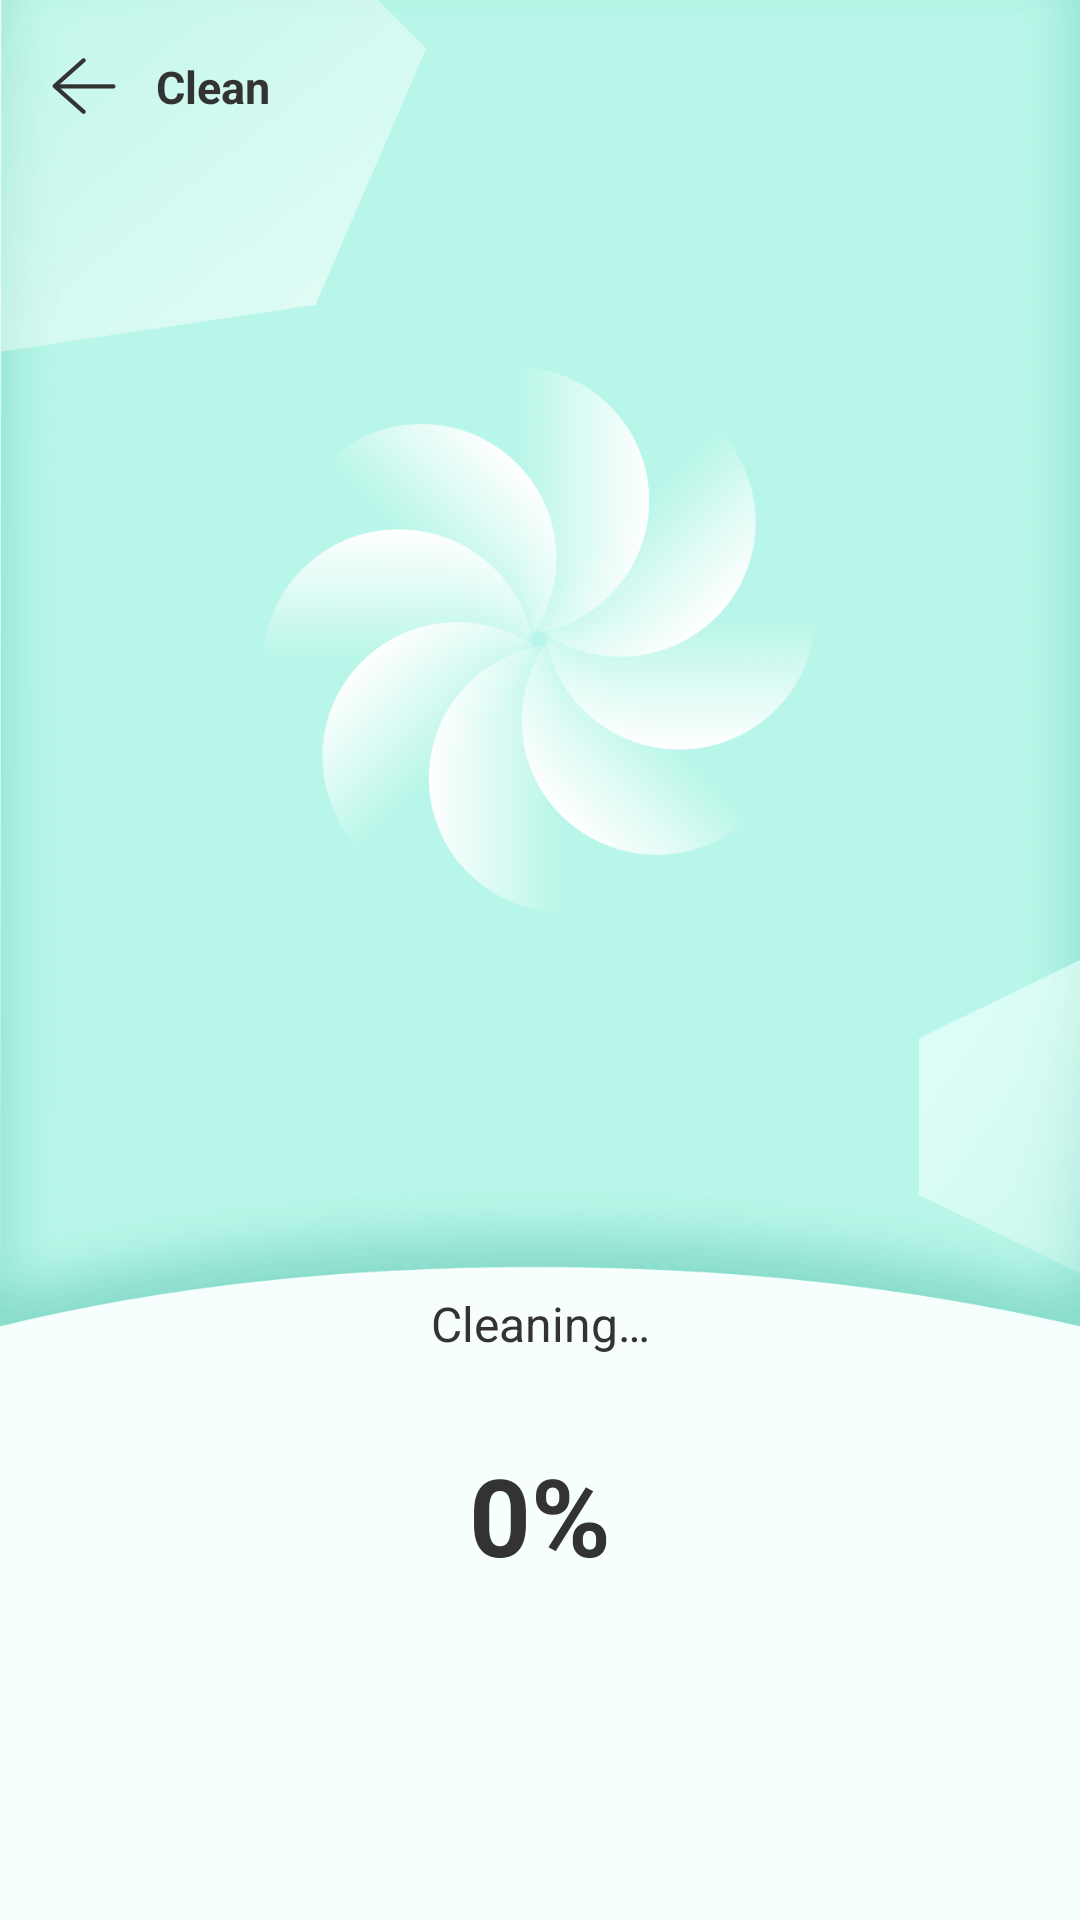

Locate icon controls on the screen. Image size 1080 × 1920, boxes as rect(x1, y1, x2, y2).
back: rect(52, 58, 116, 114)
